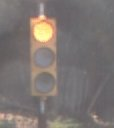Red: (27, 15, 62, 105)
